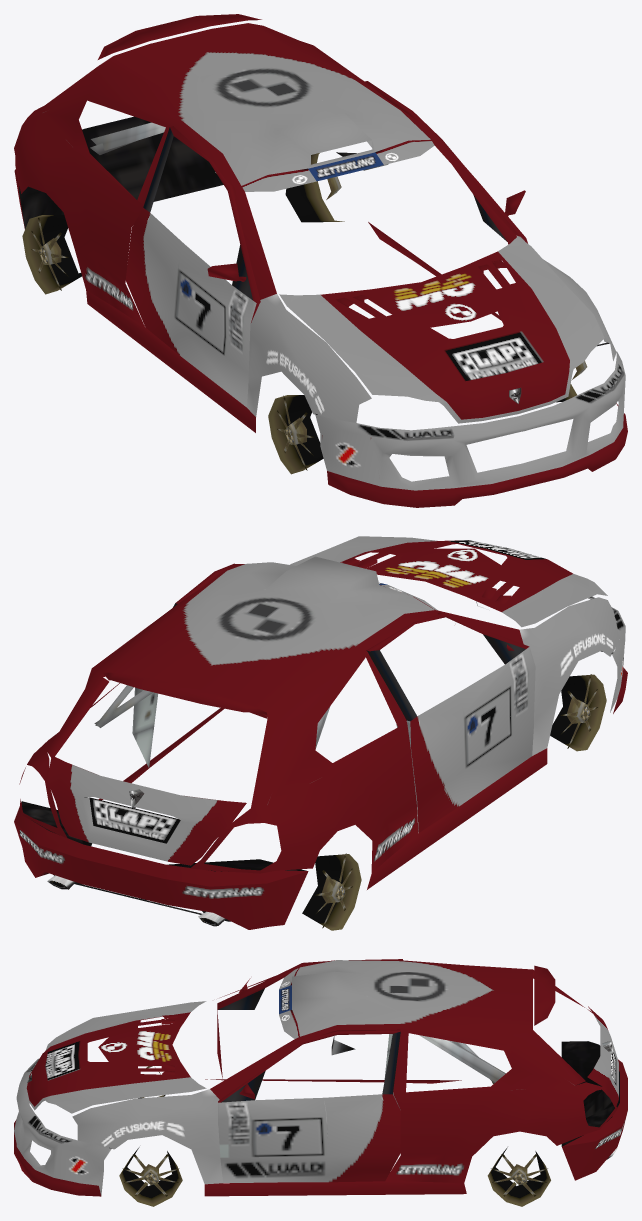
The model's file is car-COMP_Car7.glb.
3 renders of one model, top to bottom at view 1: azimuth 30°, elevation 25°; view 2: azimuth 150°, elevation 25°; view 3: azimuth 270°, elevation 25°, orthographic. The views are drawn at different scales.
Parts seen in each view (by area): view 1: COMP_Car7; view 2: COMP_Car7; view 3: COMP_Car7.
Part boxes in pixels (x1,y1,x2,y2): COMP_Car7: (14, 14, 627, 507); COMP_Car7: (14, 536, 627, 930); COMP_Car7: (14, 959, 627, 1206).
Bounding box in the file's own units: 1.91 × 1.3 × 4.24.
19 materials, 19 textured.
